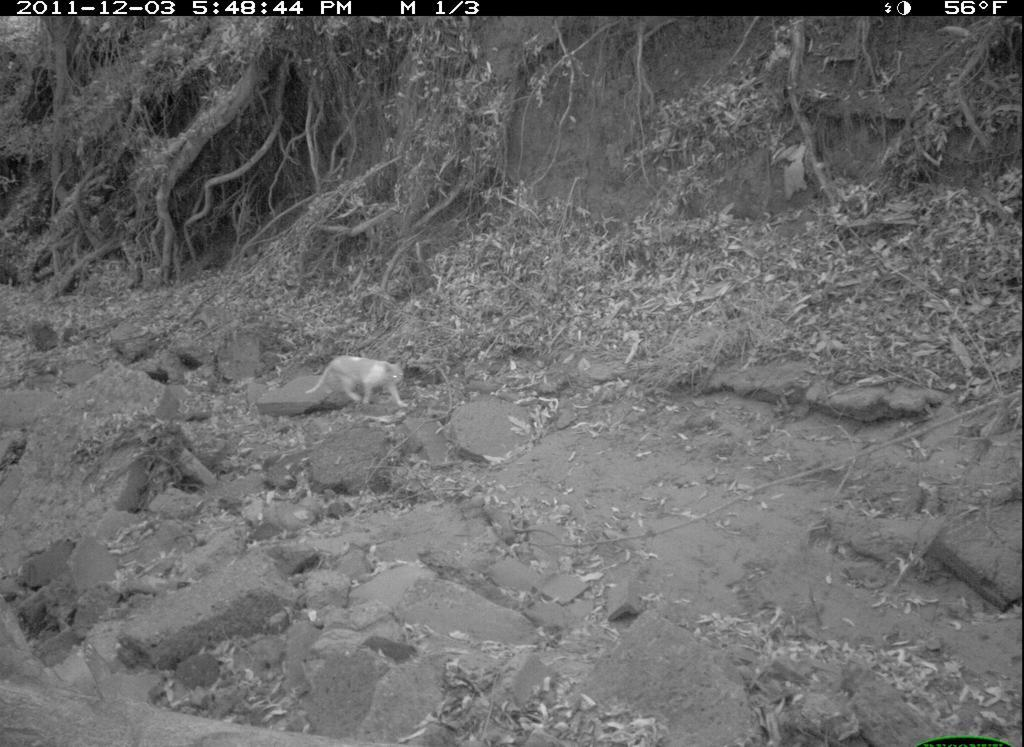cat: (300, 341, 429, 424)
